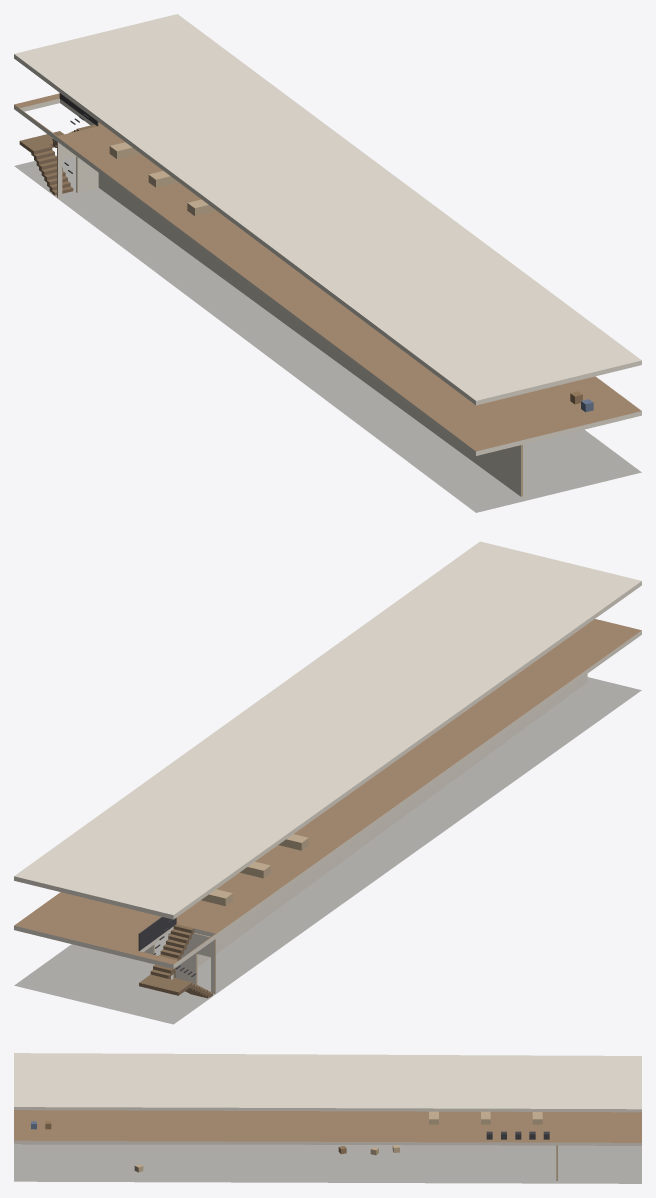
The model's file is interior.glb.
The picture shows the model from 3 angles, top to bottom: view 1: azimuth 30°, elevation 25°; view 2: azimuth 150°, elevation 25°; view 3: azimuth 270°, elevation 25°; orthographic projection. The views are drawn at different scales.
Parts seen in each view (by area): view 1: slabs, partitions, stair, coarse-s1; view 2: slabs, partitions, stair, coarse-s1; view 3: slabs, coarse-s1, coarse-s0, partitions.
Boxes of the visible parts, left/top/right/bottom form: slabs: left=14, top=14, right=641, bottom=512; partitions: left=57, top=141, right=522, bottom=496; stair: left=19, top=93, right=98, bottom=195; coarse-s1: left=109, top=142, right=593, bottom=412; slabs: left=14, top=541, right=641, bottom=1024; partitions: left=144, top=674, right=587, bottom=993; stair: left=138, top=917, right=212, bottom=998; coarse-s1: left=201, top=834, right=308, bottom=906; slabs: left=14, top=1053, right=641, bottom=1183; coarse-s1: left=31, top=1111, right=549, bottom=1139; coarse-s0: left=134, top=1145, right=399, bottom=1172; partitions: left=21, top=1144, right=557, bottom=1180.
Bounding box in the file's own units: 10.25 × 6.38 × 48.46.
